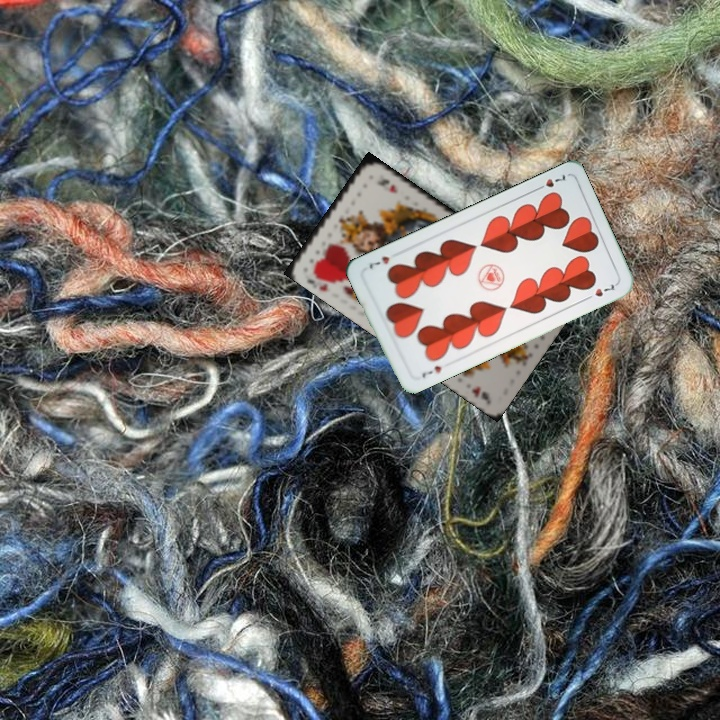H7: (531, 171, 568, 193), (417, 362, 444, 380)
HK: (302, 274, 331, 295)
